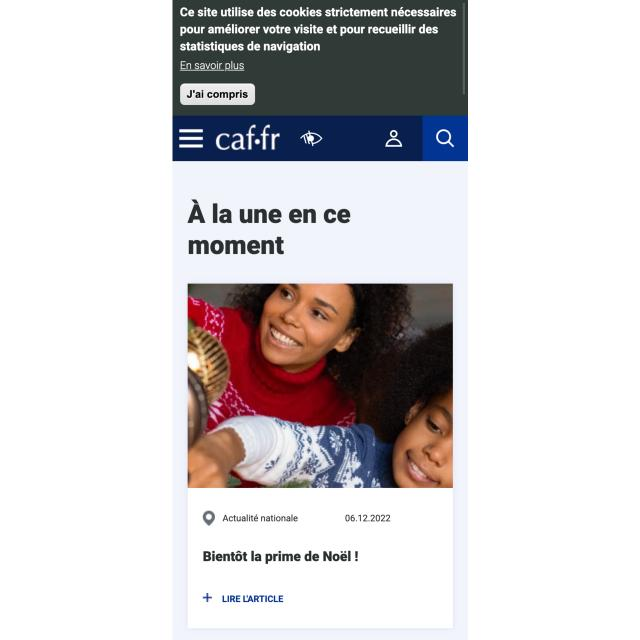logo: (214, 121, 281, 156)
navigation: (178, 126, 206, 151)
